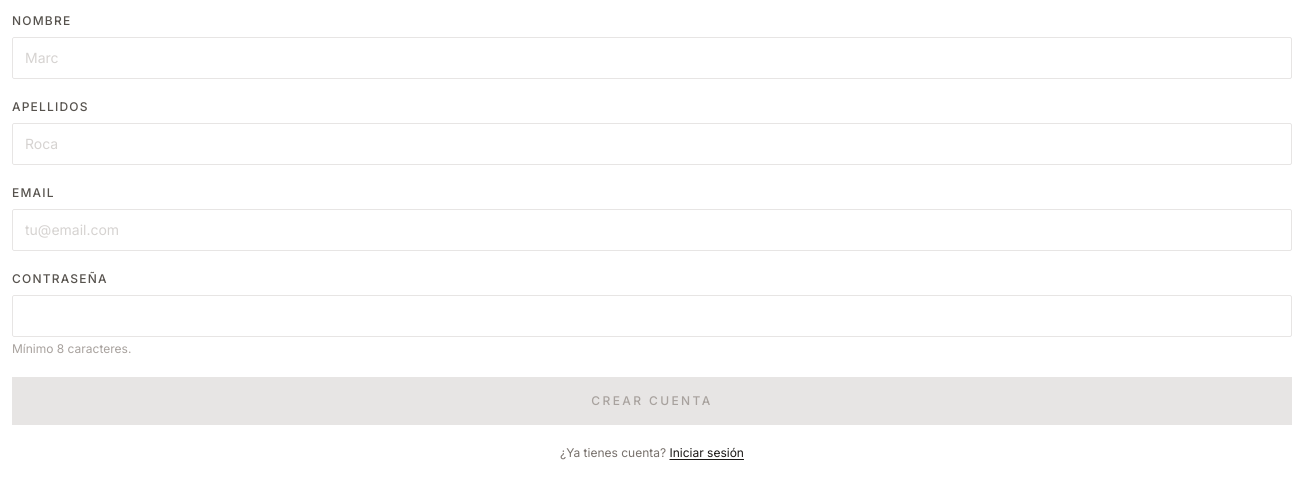
Test: RegisterForm › shows inline error after blurring password field with < 8 chars
Type "short" into the password field labelled "Contraseña".
click(652, 316); type("short")  # box [12,295,1292,337]
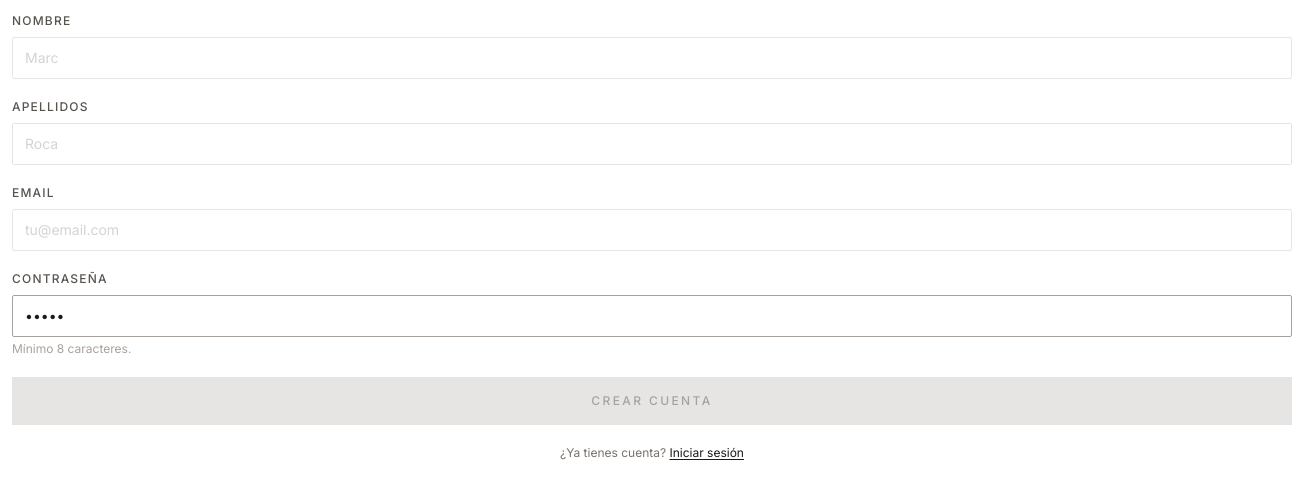
Press Tab
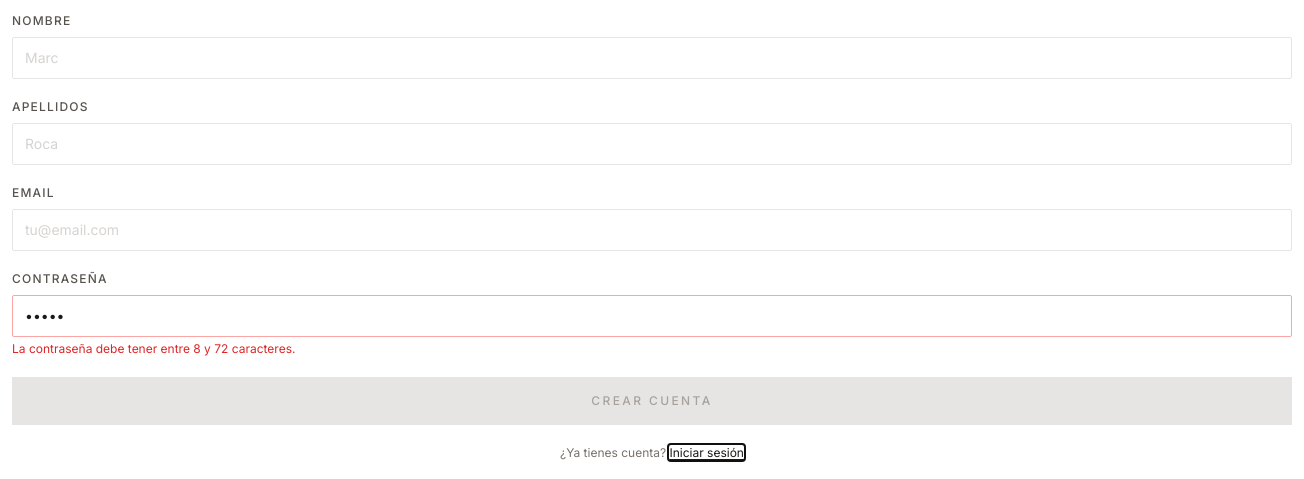
Expected: the text "La contraseña debe tener entre 8 y 72 caracteres." is shown, [12,341,295,356]
